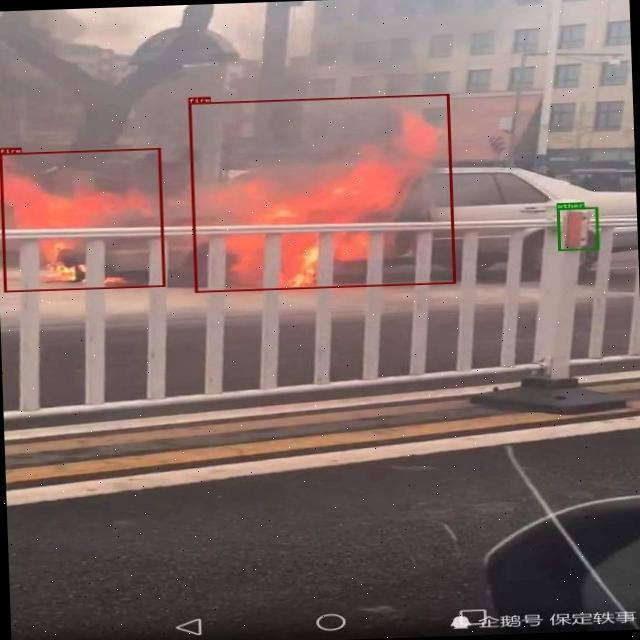fire: (188, 94, 454, 292), (0, 147, 165, 292)
